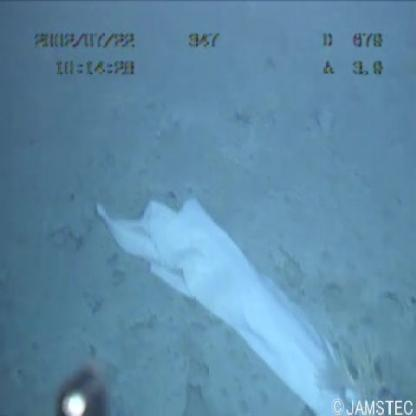Bio: (316, 338, 409, 416)
Rov: (48, 360, 112, 416)
Rác: (92, 168, 376, 416)
